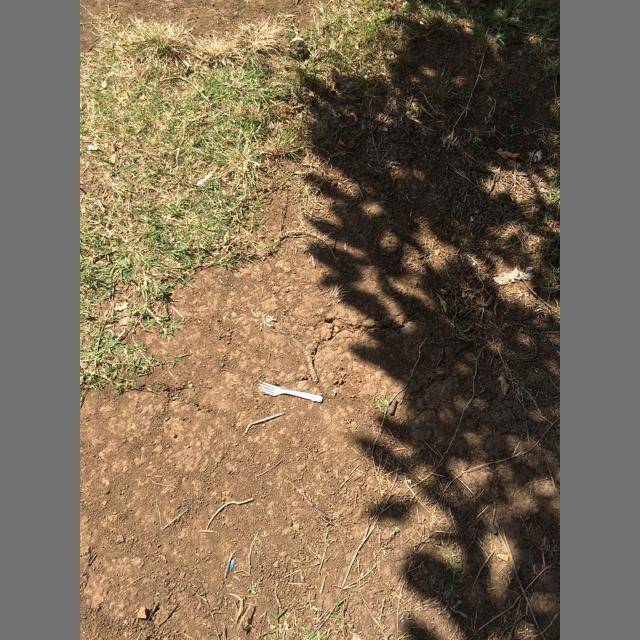litter: (258, 381, 322, 402), (245, 412, 284, 434), (230, 558, 235, 573)
